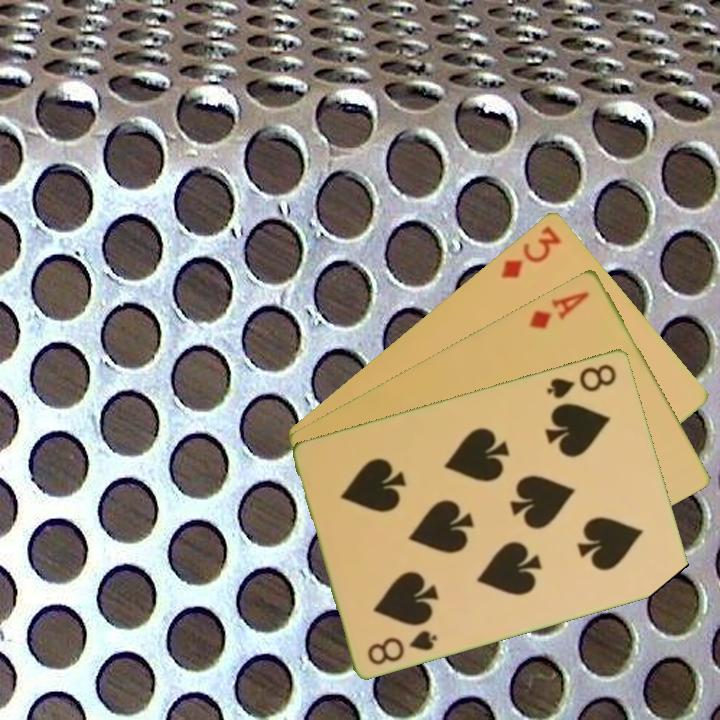3d: (497, 221, 564, 281)
8s: (543, 359, 620, 401), (364, 626, 440, 668)
Ad: (525, 287, 593, 332)
